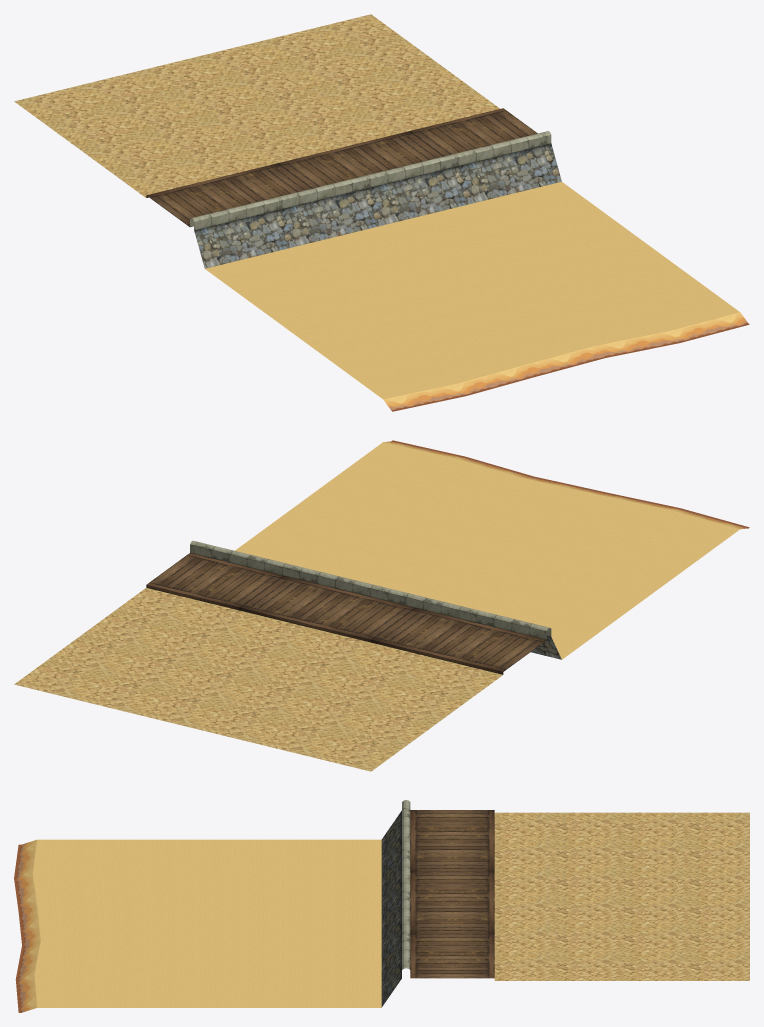
The model's file is Dock_1x1.fbx.
3 views of the same model, one above another, from view 1: azimuth 30°, elevation 25°; view 2: azimuth 150°, elevation 25°; view 3: azimuth 270°, elevation 25° (orthographic). The views are drawn at different scales.
Visible parts, largest first — view 1: Dock_1x1; view 2: Dock_1x1; view 3: Dock_1x1.
Part boxes in pixels (x1,y1,x2,y2): Dock_1x1: (14, 14, 749, 411); Dock_1x1: (14, 440, 749, 771); Dock_1x1: (14, 800, 749, 1012).
Bounding box in the file's own units: 10.06 × 1.24 × 18.6.
